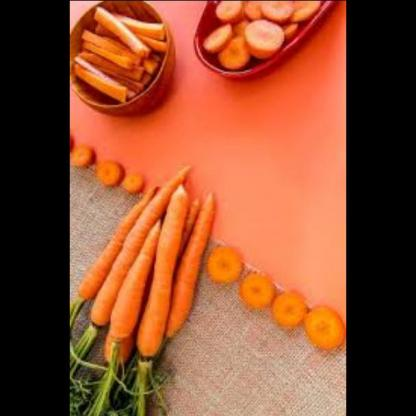carrot: (69, 173, 214, 355), (195, 0, 321, 67), (70, 13, 161, 104), (298, 301, 342, 352), (201, 240, 241, 292), (268, 287, 304, 329), (238, 270, 274, 309), (69, 138, 99, 177), (115, 169, 144, 199), (95, 158, 121, 188)
